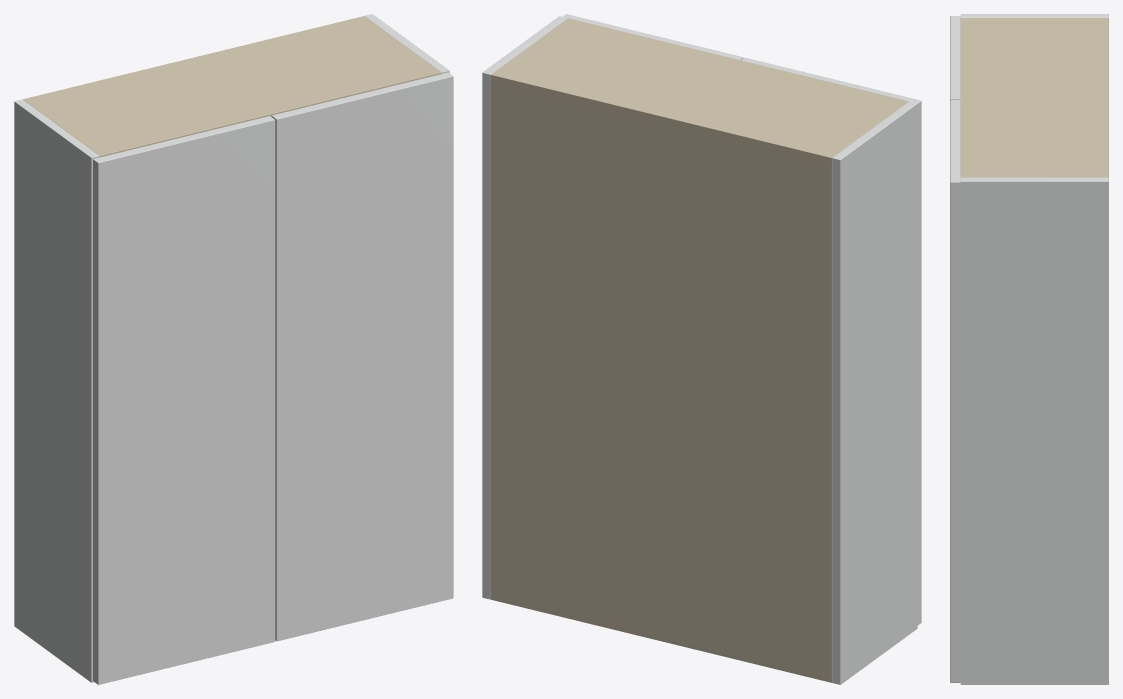
The model's file is oppein-ply-pgw-w3042.glb.
3 renders of one model, left to right at view 1: azimuth 30°, elevation 25°; view 2: azimuth 150°, elevation 25°; view 3: azimuth 270°, elevation 25°, orthographic. The views are drawn at different scales.
Visible parts, largest first — view 1: Door, Door.001, Cabinet side, Cabinet top, Cabinet side.001; view 2: Cabinet back, Cabinet side, Cabinet top, Cabinet side.001, Door, Cabinet bottom, Door.001; view 3: Cabinet side.001, Cabinet top, Door.001, Door, Cabinet side.
Part boxes in pixels (x1,y1,x2,y2): Door: [93, 116, 275, 684]; Door.001: [271, 72, 453, 641]; Cabinet side: [14, 99, 99, 682]; Cabinet top: [23, 16, 441, 157]; Cabinet side.001: [364, 14, 449, 73]; Cabinet back: [490, 75, 832, 682]; Cabinet side: [832, 101, 917, 684]; Cabinet top: [490, 18, 908, 165]; Cabinet side.001: [482, 16, 567, 599]; Door: [741, 57, 921, 625]; Cabinet bottom: [490, 591, 832, 682]; Door.001: [562, 14, 743, 60]; Cabinet side.001: [960, 177, 1108, 684]; Cabinet top: [960, 18, 1108, 177]; Door.001: [950, 99, 960, 682]; Door: [950, 16, 960, 99]; Cabinet side: [960, 14, 1108, 17].
Size of the model in its own units: 0.762 by 1.07 by 0.3048.
